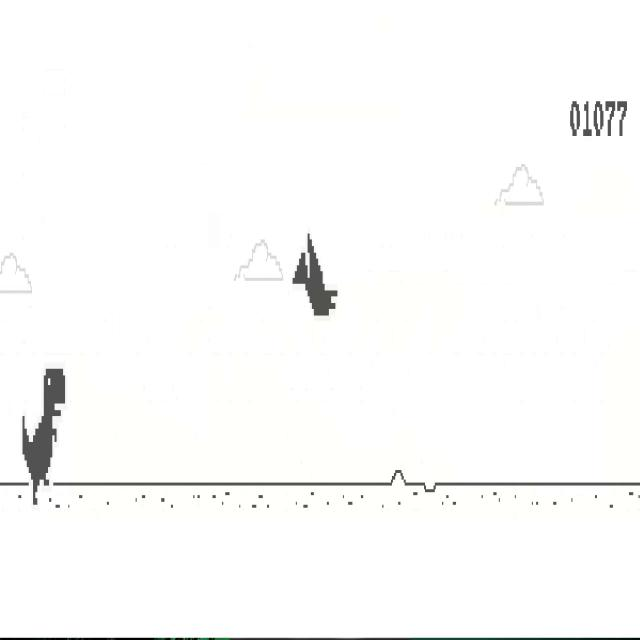dino: (22, 365, 67, 506)
ptero: (291, 230, 339, 318)
